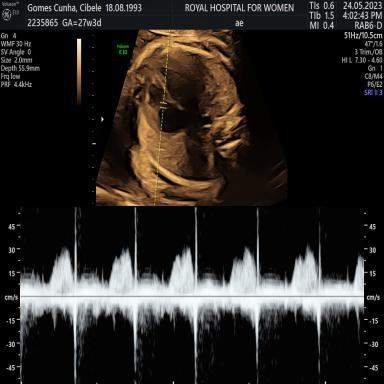Ultrasound-Waves: (27, 207, 362, 384)
